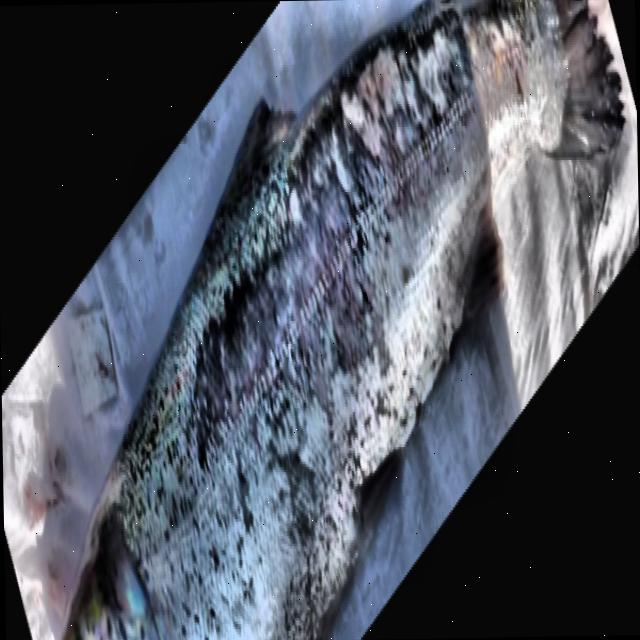mild_red: (95, 0, 564, 640)
